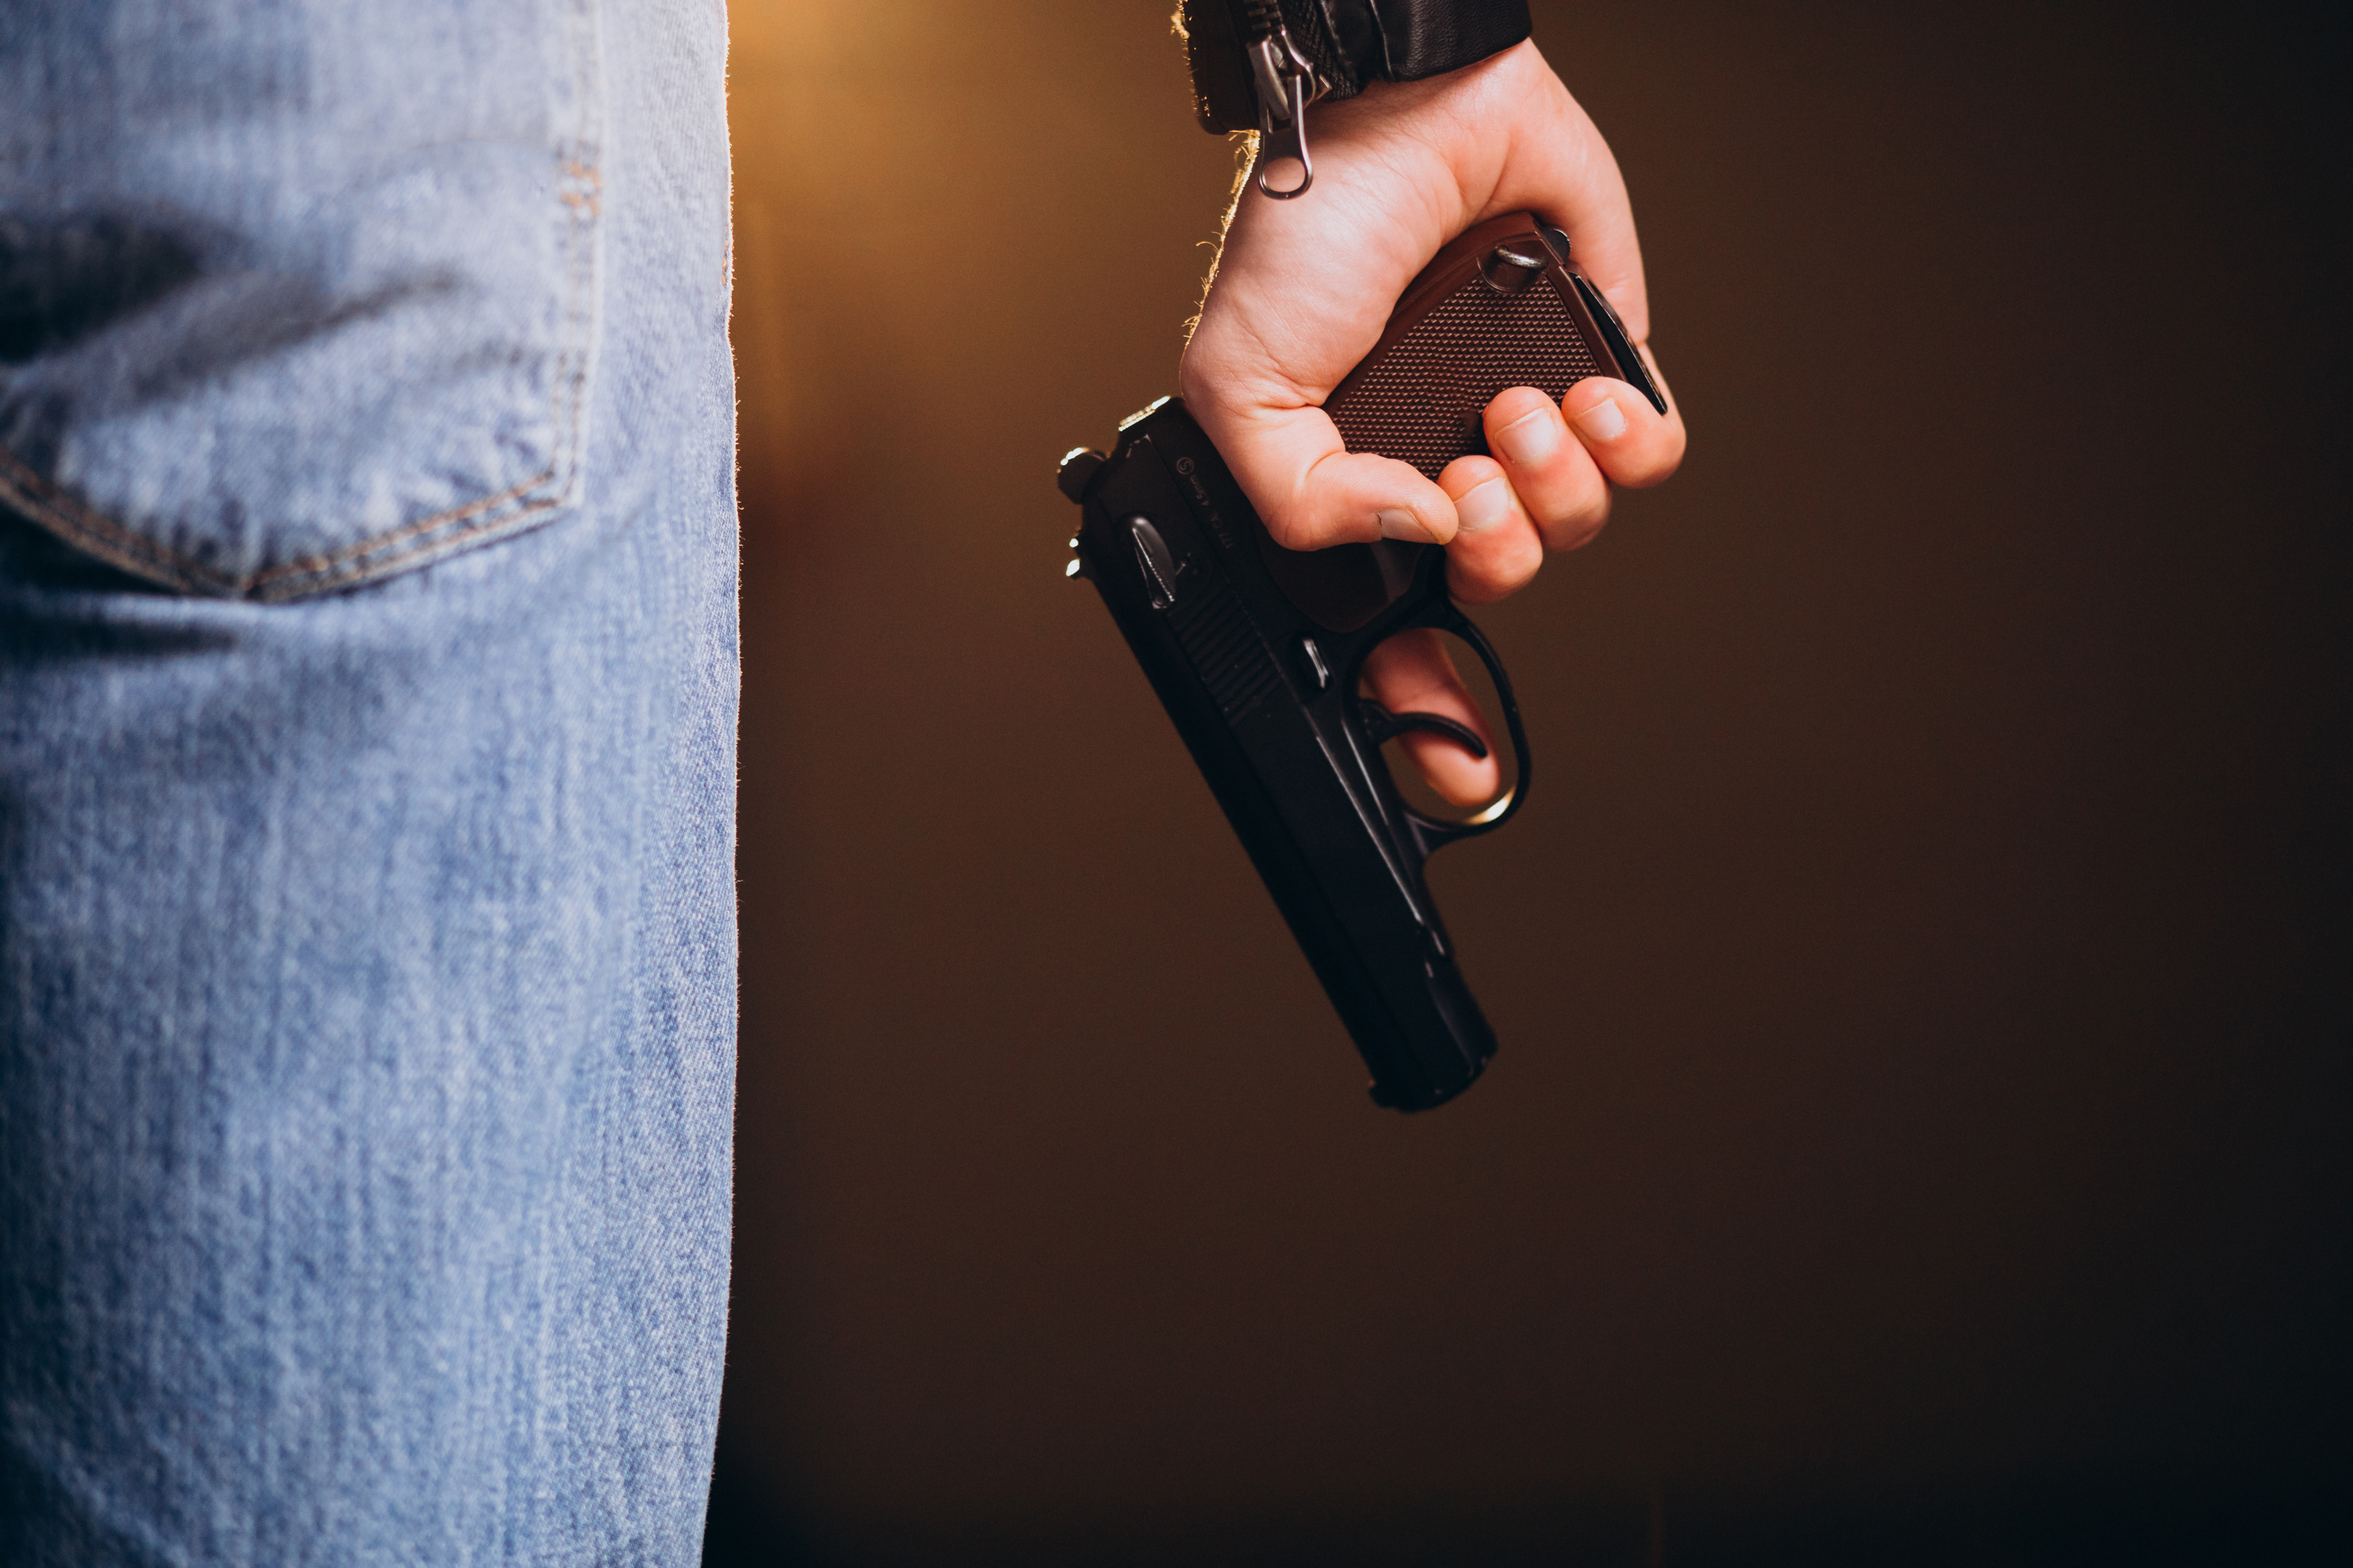pistol: (1007, 193, 1690, 1175)
